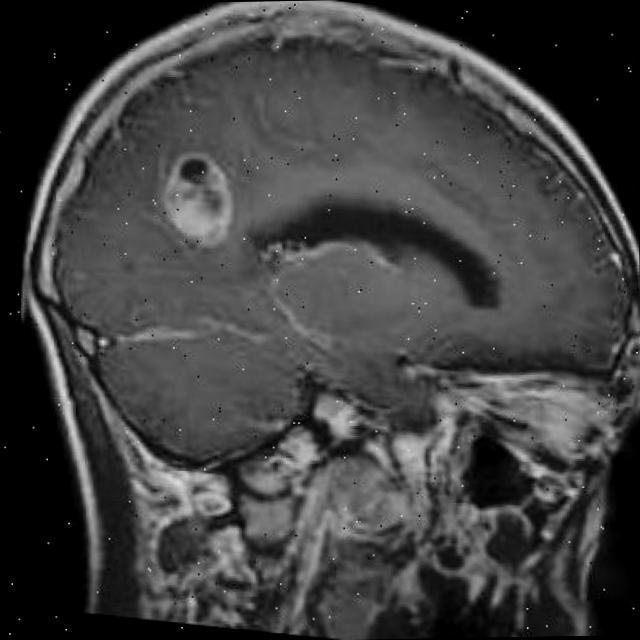EMCI: (167, 93, 243, 208)
